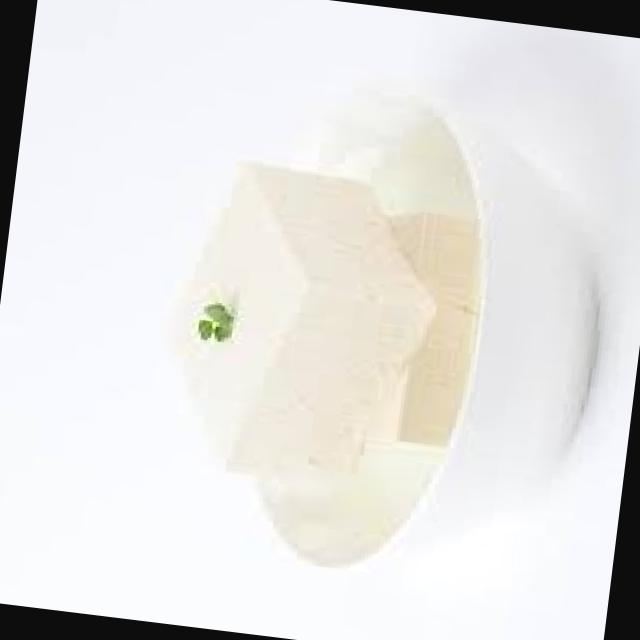tofu: (97, 116, 490, 514)
